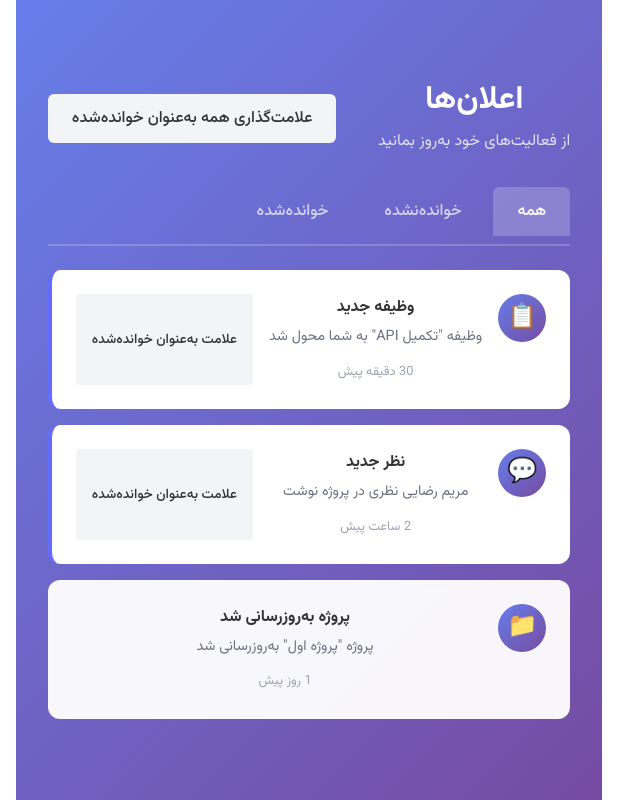
Test: NotificationsList › Mark all as read › marks all notifications as read when button is clicked
Expected: the heading "وظیفه جدید" is shown, [337,295,414,320]
What coordinates should you click on to do the following:
click the button "علامت‌گذاری همه به‌عنوان خوانده‌شده"
I would click on:
 (192, 118)
Its box is [48,94,336,143].
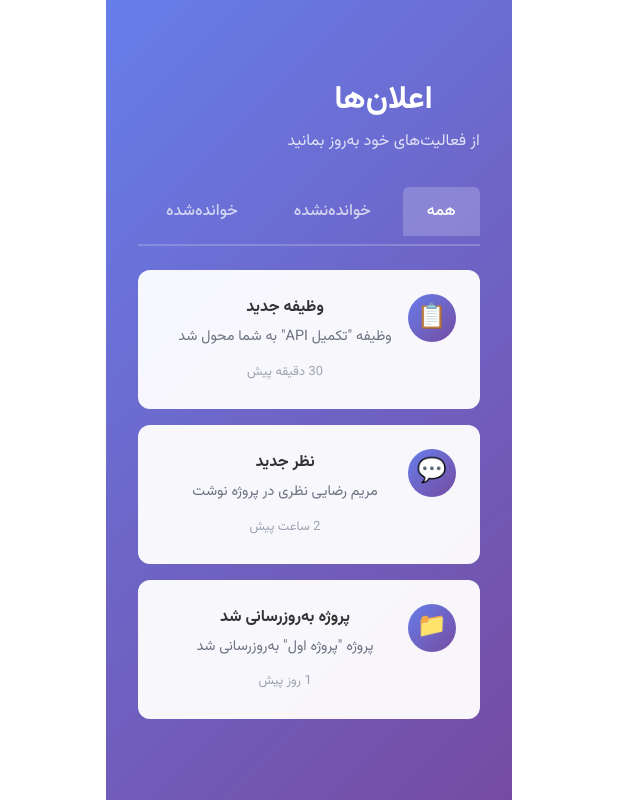
Expected: the button "علامت‌گذاری همه به‌عنوان خوانده‌شده" is gone
